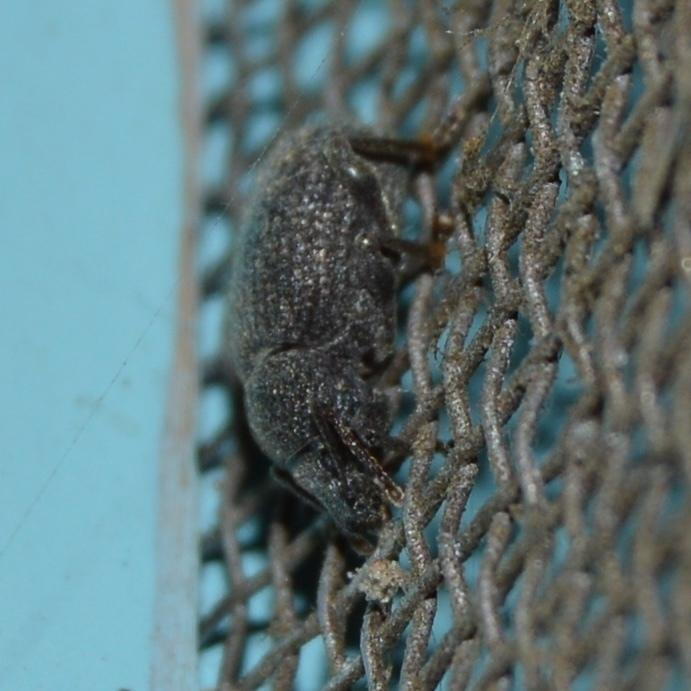weevils: (130, 62, 555, 670)
